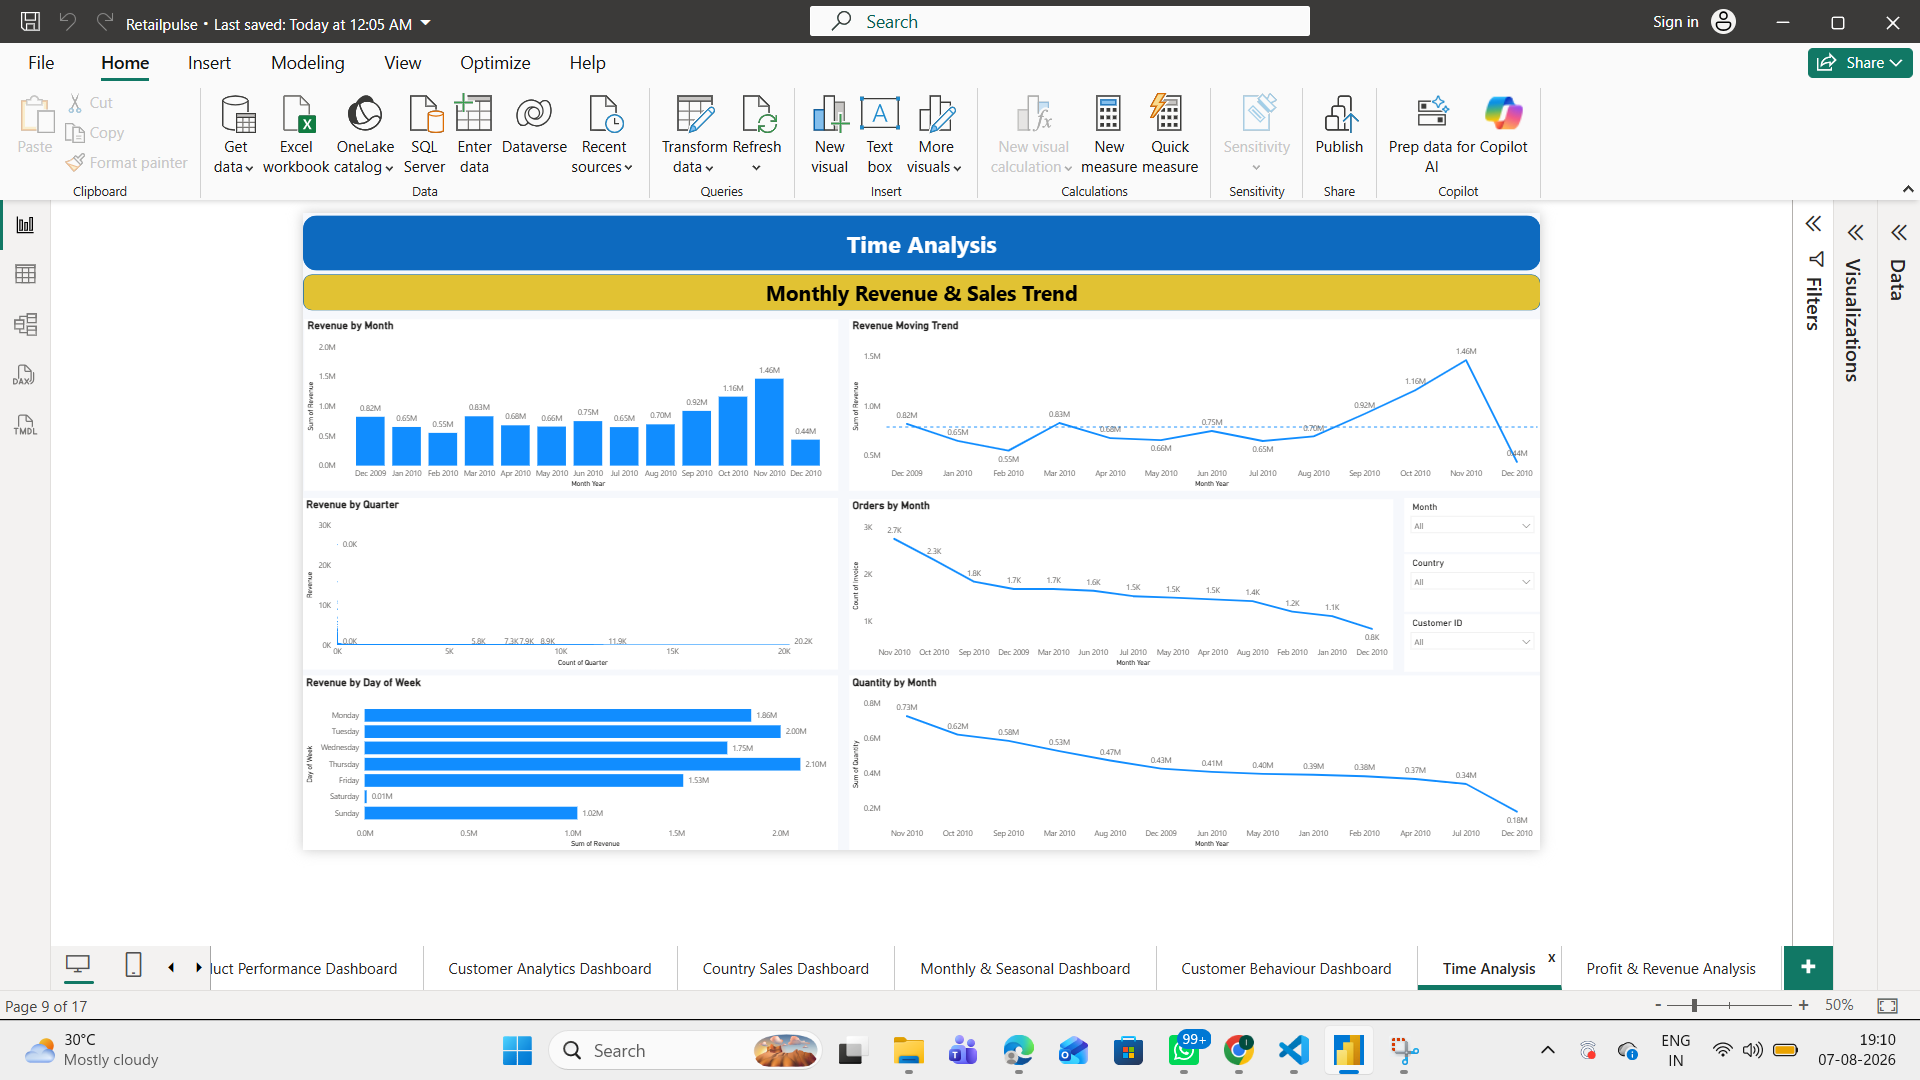

The page's visual inventory and layout, read from the dashboard file:
{"tool":"powerbi","page":{"name":"Time Analysis","canvas":[1980,1020],"ordinal":8},"visuals":[{"type":"clusteredColumnChart","title":"Revenue by Month","fields":{"Category":["cleaned_online_retail.Month Year","cleaned_online_retail.Month.Variation.Date Hierarchy.Year","cleaned_online_retail.Month.Variation.Date Hierarchy.Quarter","cleaned_online_retail.Month.Variation.Date Hierarchy.Month","cleaned_online_retail.Month.Variation.Date Hierarchy.Day"],"Y":["Sum(cleaned_online_retail.Revenue)"]},"box":[2,170,854,274],"z":0},{"type":"clusteredBarChart","title":"Revenue by Day of Week","fields":{"Category":["cleaned_online_retail.Day of Week"],"Y":["Sum(cleaned_online_retail.Revenue)"]},"box":[0,740,856,280],"z":1000},{"type":"clusteredBarChart","title":"Revenue by Quarter","fields":{"Category":["cleaned_online_retail.Revenue"],"Y":["CountNonNull(cleaned_online_retail.Quarter)"]},"box":[0,456,856,274],"z":2000},{"type":"lineChart","title":"Quantity by Month","fields":{"Category":["cleaned_online_retail.Month Year"],"Y":["Sum(cleaned_online_retail.Quantity)"]},"box":[874,740,1106,280],"z":3000},{"type":"lineChart","title":"Orders by Month","fields":{"Category":["cleaned_online_retail.Month Year"],"Y":["Count(cleaned_online_retail.Invoice)"]},"box":[874,458,870,272.5],"z":4000},{"type":"lineChart","title":"Revenue Moving Trend","fields":{"Category":["cleaned_online_retail.Month Year","cleaned_online_retail.Month.Variation.Date Hierarchy.Year","cleaned_online_retail.Month.Variation.Date Hierarchy.Quarter","cleaned_online_retail.Month.Variation.Date Hierarchy.Month","cleaned_online_retail.Month.Variation.Date Hierarchy.Day"],"Y":["Sum(cleaned_online_retail.Revenue)"]},"box":[874,170,1106,274],"z":5000},{"type":"slicer","fields":{"Values":["cleaned_online_retail.Month"]},"box":[1762,456,218,86],"z":6000},{"type":"slicer","fields":{"Values":["cleaned_online_retail.Country"]},"box":[1762,546,218,92],"z":7000},{"type":"shape","box":[0,4,1980,88],"z":8000},{"type":"shape","box":[0,98,1980,58],"z":9000},{"type":"slicer","fields":{"Values":["cleaned_online_retail.Customer ID"]},"box":[1762,642,218,92],"z":10000}]}

Visuals, with their boxes on the page's 1980x1020 design canvas (x1, y1, x2, y2). These are canvas units, not pixel positions in the 1920x1080 screenshot, which may show the page scaled, cropped or inside an application window:
"Revenue by Month" clusteredColumnChart: bbox=[2, 170, 856, 444]
"Revenue by Day of Week" clusteredBarChart: bbox=[0, 740, 856, 1020]
"Revenue by Quarter" clusteredBarChart: bbox=[0, 456, 856, 730]
"Quantity by Month" lineChart: bbox=[874, 740, 1980, 1020]
"Orders by Month" lineChart: bbox=[874, 458, 1744, 730]
"Revenue Moving Trend" lineChart: bbox=[874, 170, 1980, 444]
slicer - cleaned_online_retail.Month: bbox=[1762, 456, 1980, 542]
slicer - cleaned_online_retail.Country: bbox=[1762, 546, 1980, 638]
shape: bbox=[0, 4, 1980, 92]
shape: bbox=[0, 98, 1980, 156]
slicer - cleaned_online_retail.Customer ID: bbox=[1762, 642, 1980, 734]
